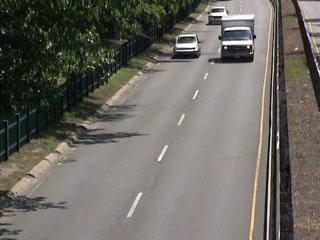car: (174, 32, 201, 59), (206, 6, 230, 27)
truck: (218, 13, 256, 63)
